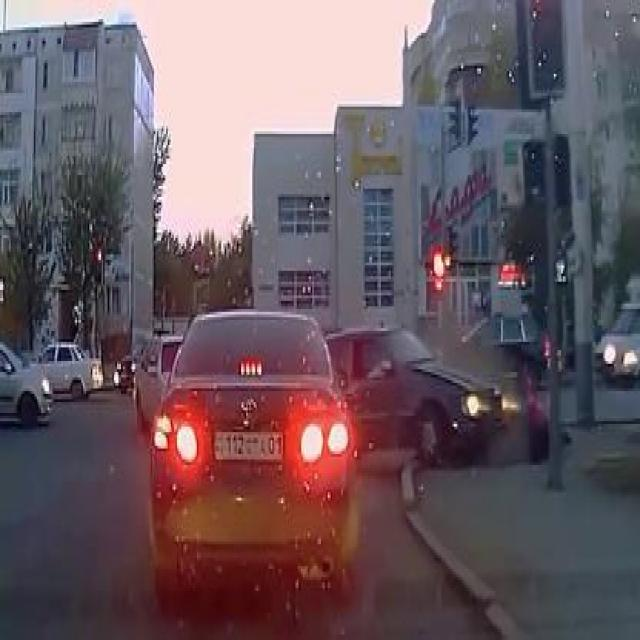accident: (318, 306, 554, 482)
